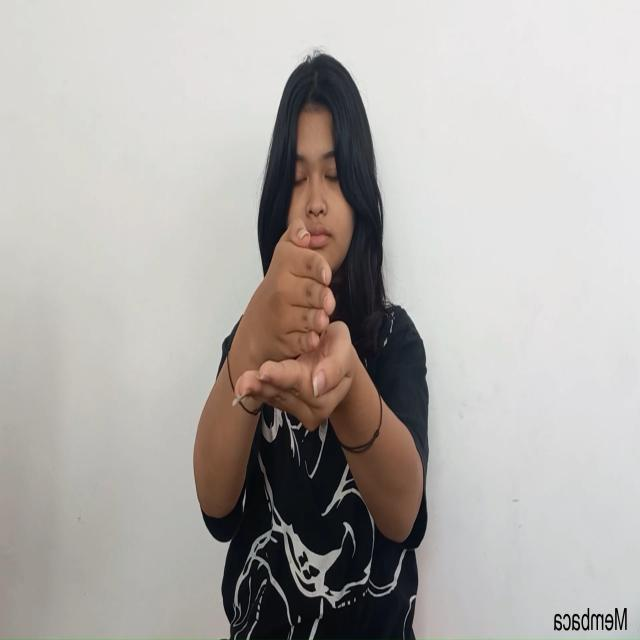Membaca -BISINDO-: (230, 215, 359, 431)
